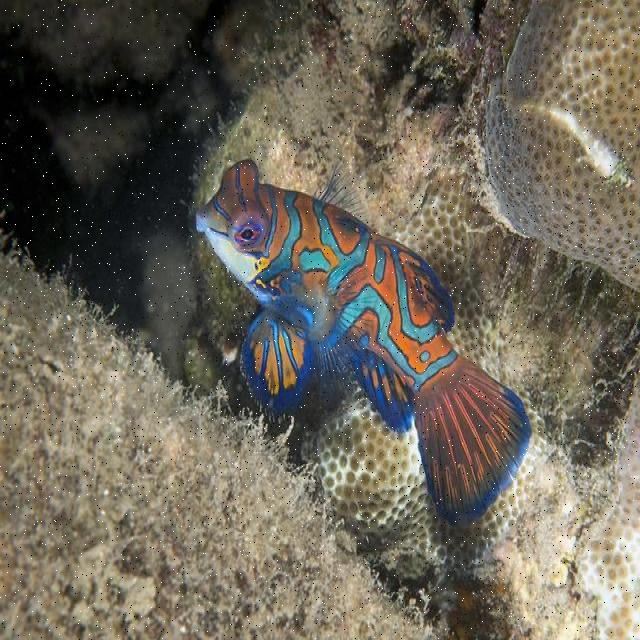fish: (195, 158, 532, 521)
reefs: (302, 175, 546, 583), (485, 5, 638, 293)
